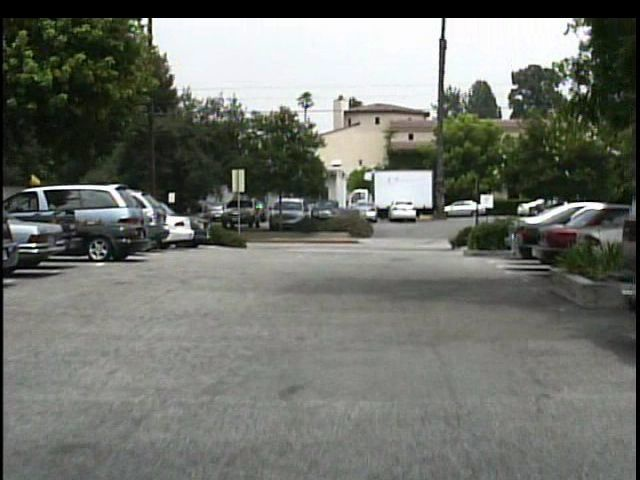person: (181, 198, 200, 235)
